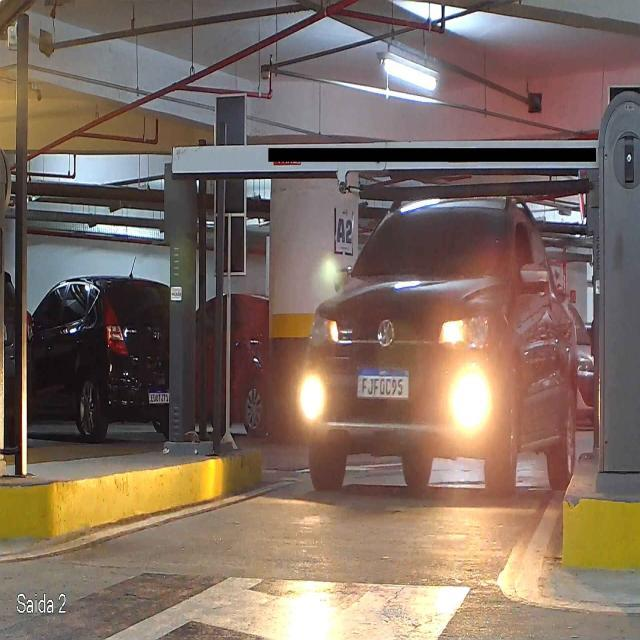mercosul_plate: (355, 369, 411, 401)
